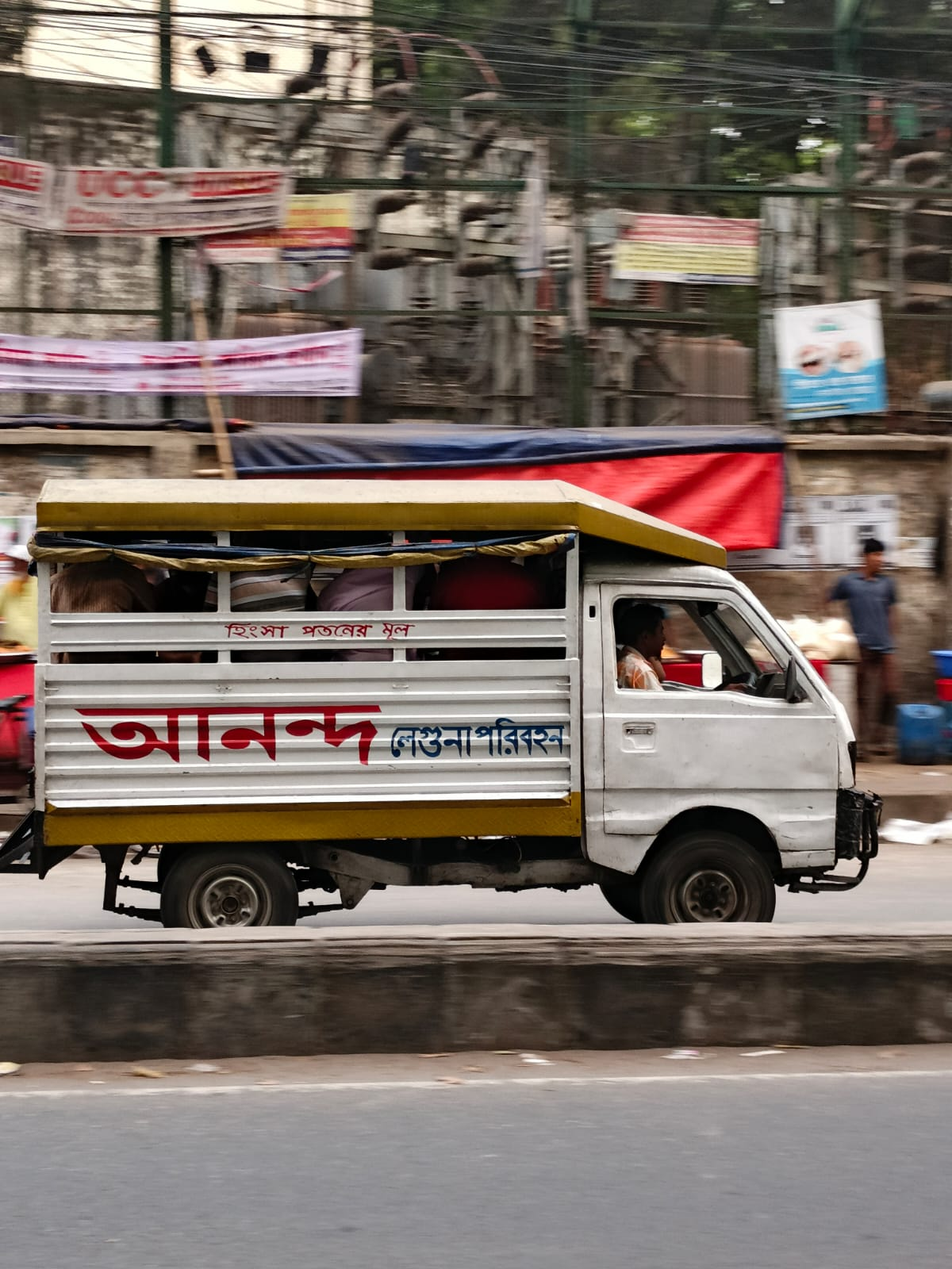Leguna: (21, 447, 897, 986)
